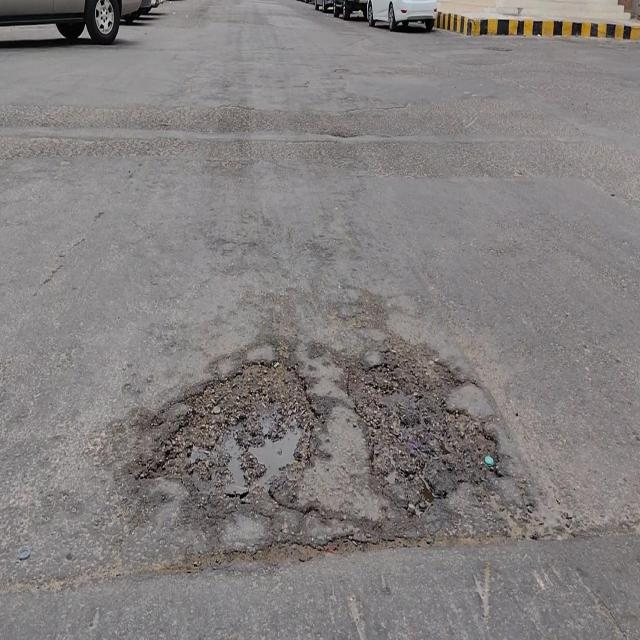Pothole: (134, 352, 319, 514), (345, 336, 499, 516)
